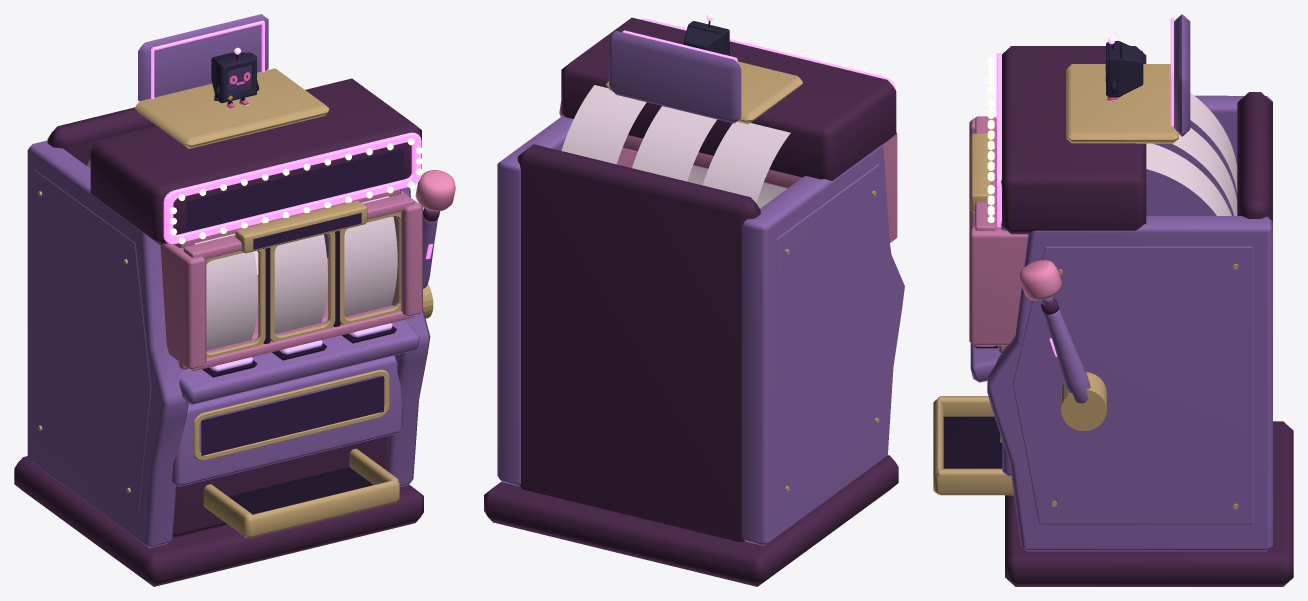
Rendered from slot.glb.
The picture shows the model from 3 angles, left to right: view 1: azimuth 30°, elevation 25°; view 2: azimuth 150°, elevation 25°; view 3: azimuth 270°, elevation 25°; orthographic projection. The views are drawn at different scales.
Visible parts, largest first — view 1: wand_grip, back_shell, control_deck, emi_stage, bay_bottom_mask, marquee, reel_frame_1, screen_status, bay_separator, marquee_glow, reel_3, reel_2 (+8 smaller); view 2: back_shell, wand_grip, control_deck, reel_2, reel_3, reel_1, emi_stage, bay_bottom_mask, EMI_case, marquee_glow; view 3: wand_grip, back_shell, emi_stage, bay_bottom_mask, bay_separator, control_deck, reel_3, EMI_case, reel_2, reel_1, wand_head, marquee_glow (+2 smaller).
Boxes of the visible parts, left/top/right/bottom form: wand_grip: left=27, top=140, right=437, bottom=547; back_shell: left=14, top=78, right=423, bottom=586; control_deck: left=138, top=14, right=419, bottom=486; emi_stage: left=37, top=68, right=433, bottom=538; bay_bottom_mask: left=160, top=189, right=422, bottom=371; marquee: left=186, top=148, right=404, bottom=232; reel_frame_1: left=193, top=212, right=401, bottom=460; screen_status: left=201, top=376, right=383, bottom=455; bay_separator: left=202, top=230, right=396, bottom=514; marquee_glow: left=163, top=132, right=421, bottom=244; reel_3: left=254, top=196, right=397, bottom=316; reel_2: left=274, top=234, right=327, bottom=333; back_shell: left=484, top=17, right=898, bottom=586; wand_grip: left=497, top=115, right=904, bottom=545; control_deck: left=609, top=31, right=741, bottom=123; reel_2: left=632, top=106, right=786, bottom=208; reel_3: left=561, top=85, right=707, bottom=185; reel_1: left=702, top=122, right=790, bottom=203; emi_stage: left=606, top=61, right=879, bottom=491; bay_bottom_mask: left=616, top=132, right=897, bottom=242; EMI_case: left=683, top=21, right=729, bottom=55; marquee_glow: left=640, top=18, right=895, bottom=89; wand_grip: left=987, top=95, right=1272, bottom=551; back_shell: left=1001, top=46, right=1293, bottom=586; emi_stage: left=933, top=64, right=1238, bottom=509; bay_bottom_mask: left=969, top=116, right=1028, bottom=353; bay_separator: left=943, top=345, right=1002, bottom=468; control_deck: left=970, top=14, right=1190, bottom=476; reel_3: left=996, top=143, right=1231, bottom=225; EMI_case: left=1108, top=41, right=1143, bottom=97; reel_2: left=996, top=128, right=1237, bottom=215; reel_1: left=996, top=93, right=1237, bottom=215; wand_head: left=1020, top=260, right=1061, bottom=300; marquee_glow: left=996, top=53, right=1001, bottom=227.
Bounding box in the file's own units: 1.27 × 1.8 × 1.21.
Materials: 21 (1 with a texture image).
